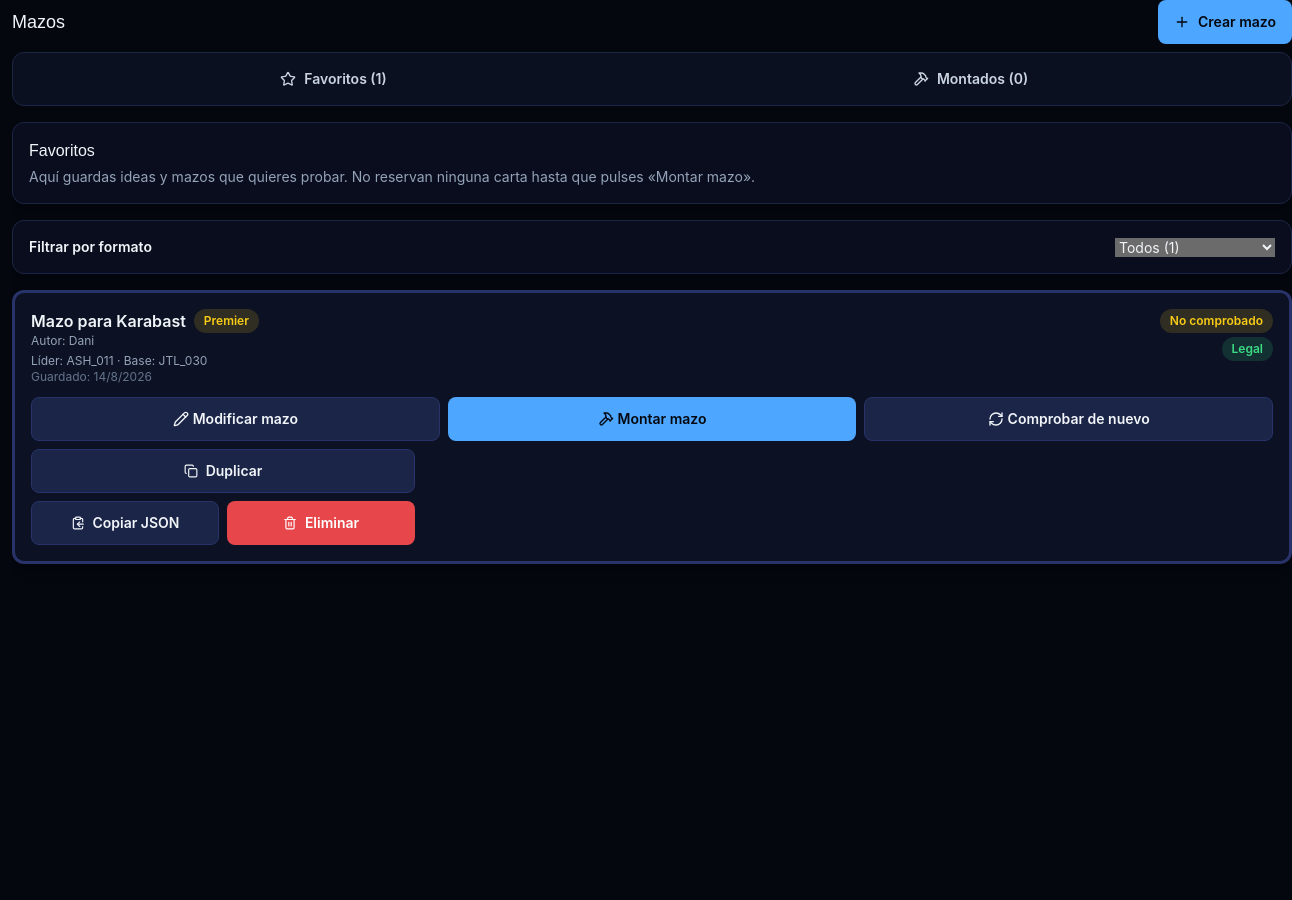
Favoritos y mazos montados › copia el JSON compatible desde Favoritos y lo coloca junto a Eliminar
The width and height of the screenshot is (1292, 900).
Expected: the button "Montar mazo" is shown, [448,397,856,441]
Expected: the button "Comprobar de nuevo" is shown, [864,397,1273,441]
Click the button "Copiar JSON" at (125, 523), box [31,501,219,545]
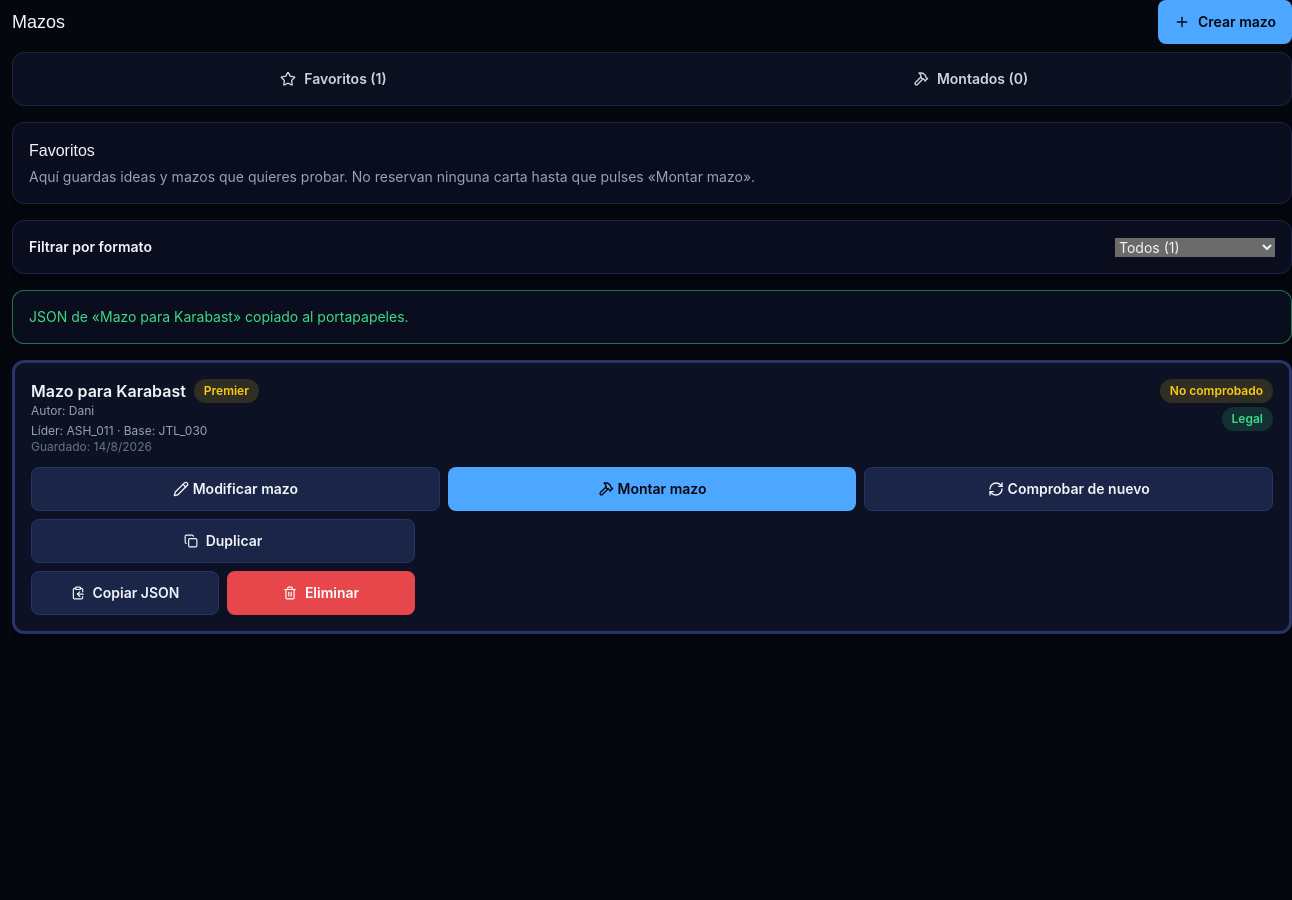
Expected: the message reads "JSON de «Mazo para Karabast» copiado al portapapeles.", [29,308,409,325]
